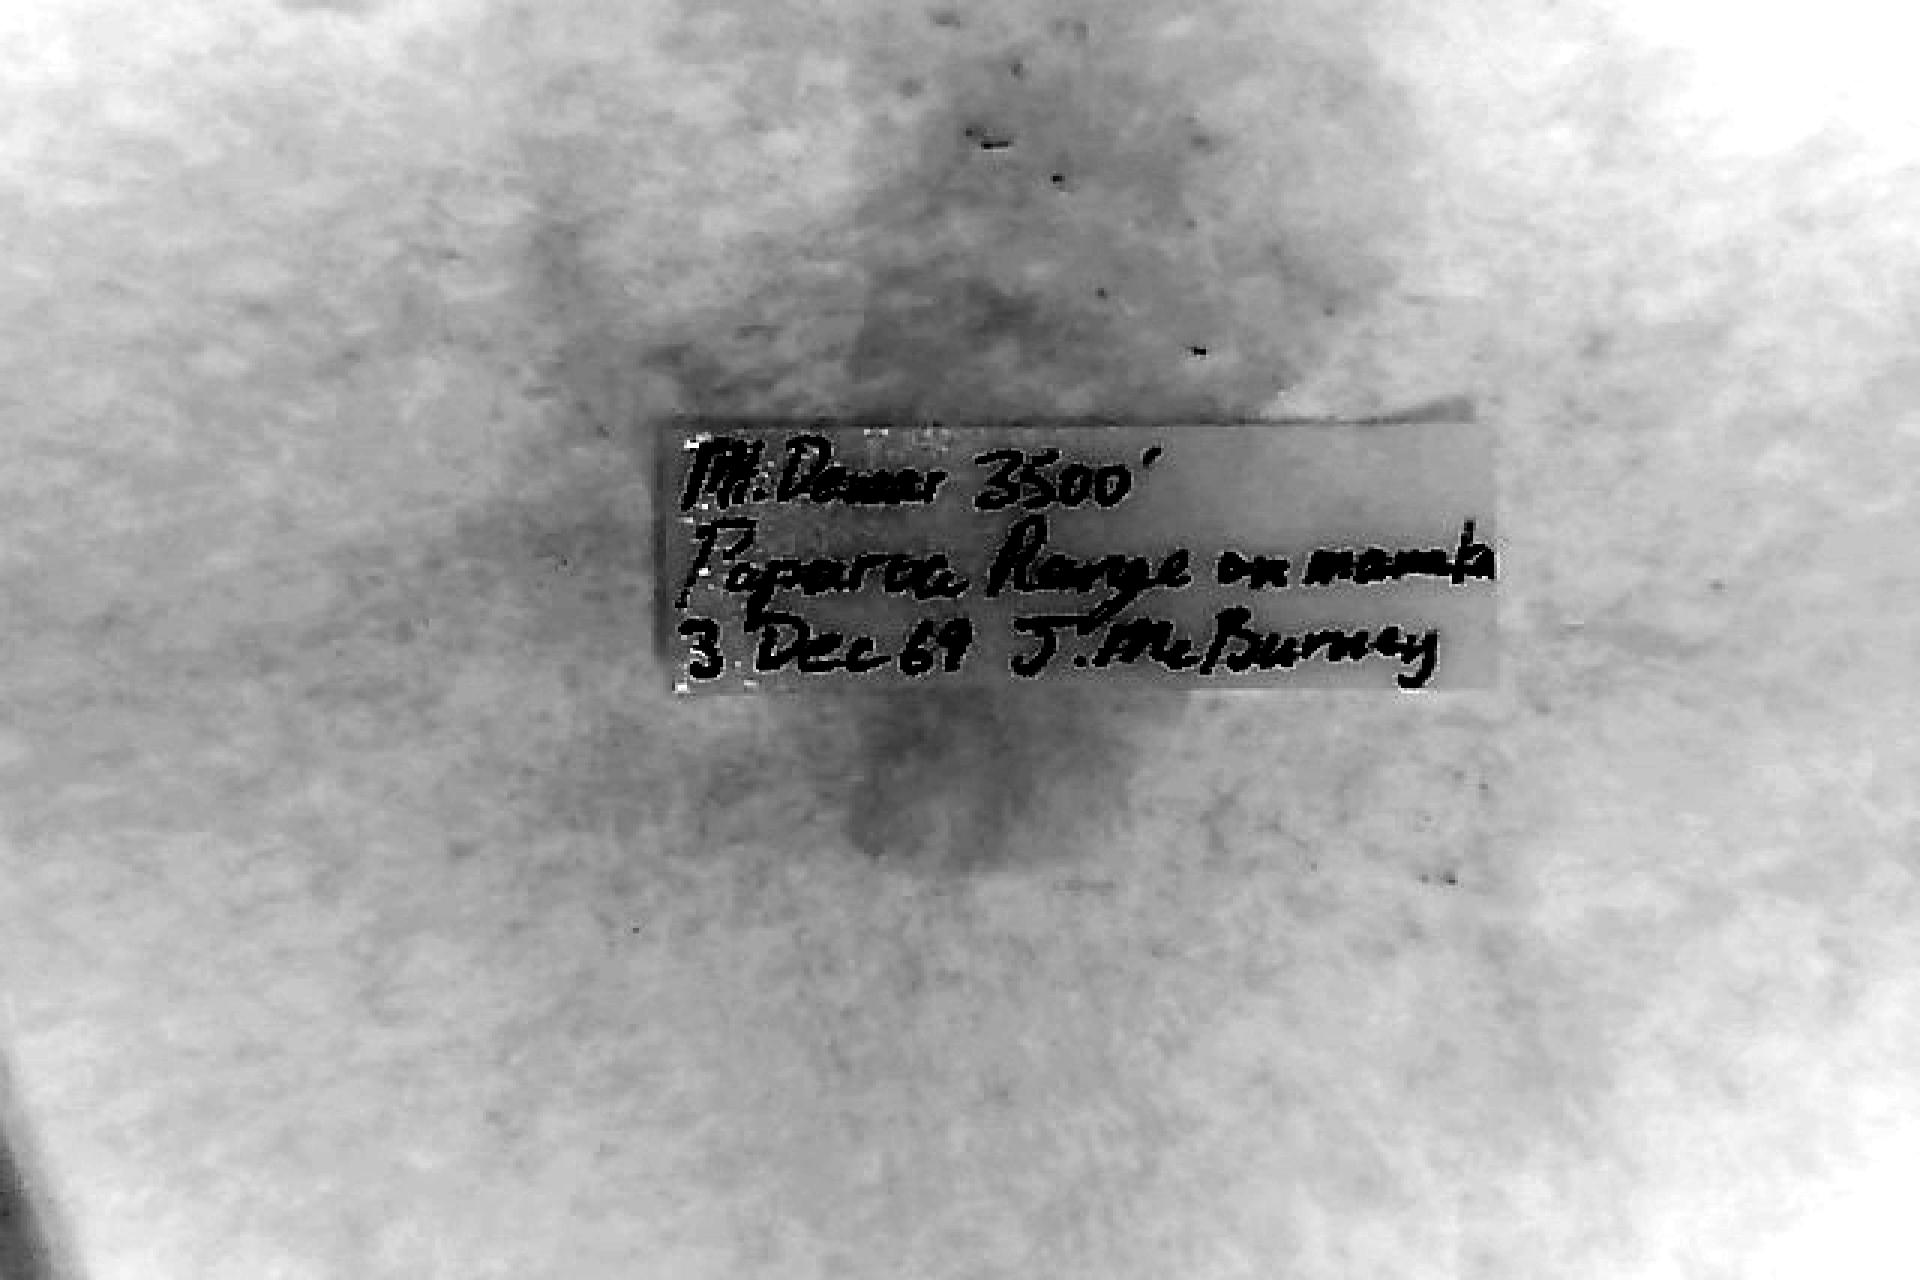hand_label: (660, 423, 1496, 690)
